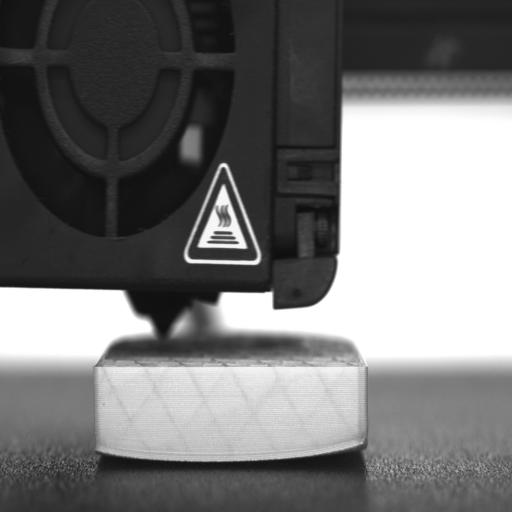warp: (92, 440, 133, 461), (338, 436, 368, 454)
